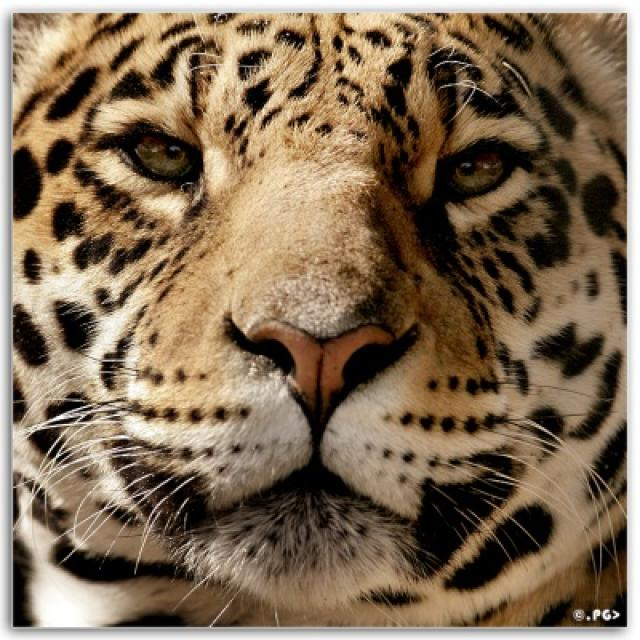Jaguar: (11, 10, 629, 630)
